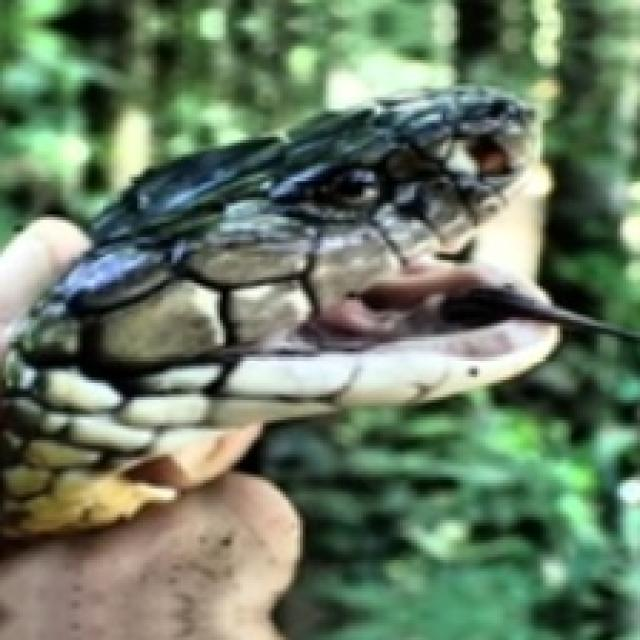king cobra: (0, 89, 637, 637)
